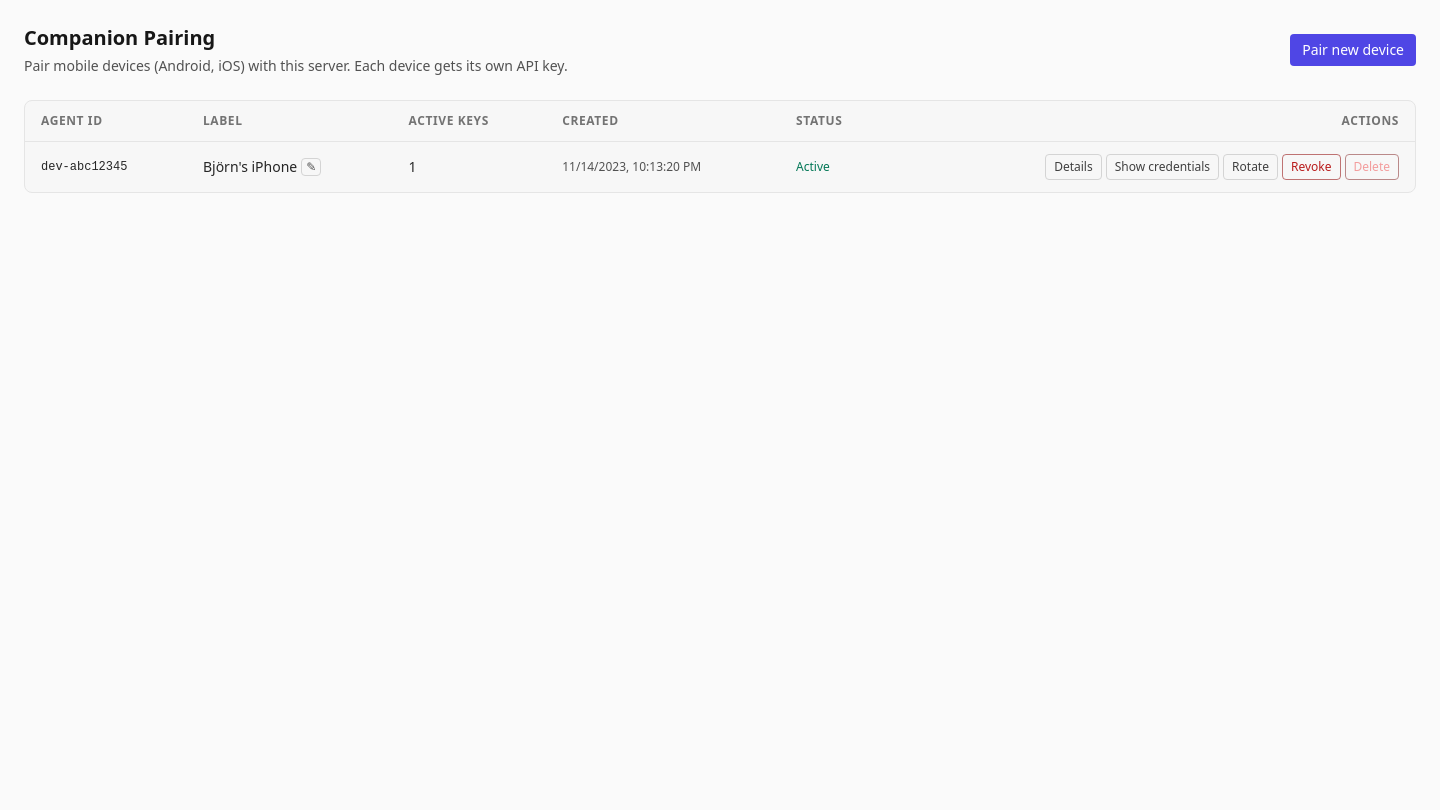
it: CompanionPairingsPage › displays Pairing URL, Copy URL button, and deep link when a key is rotated
Expected: the text "Björn's iPhone" is shown, [203,157,297,176]
Click the button "Rotate".
click(1251, 167)  # box [1223,154,1278,180]
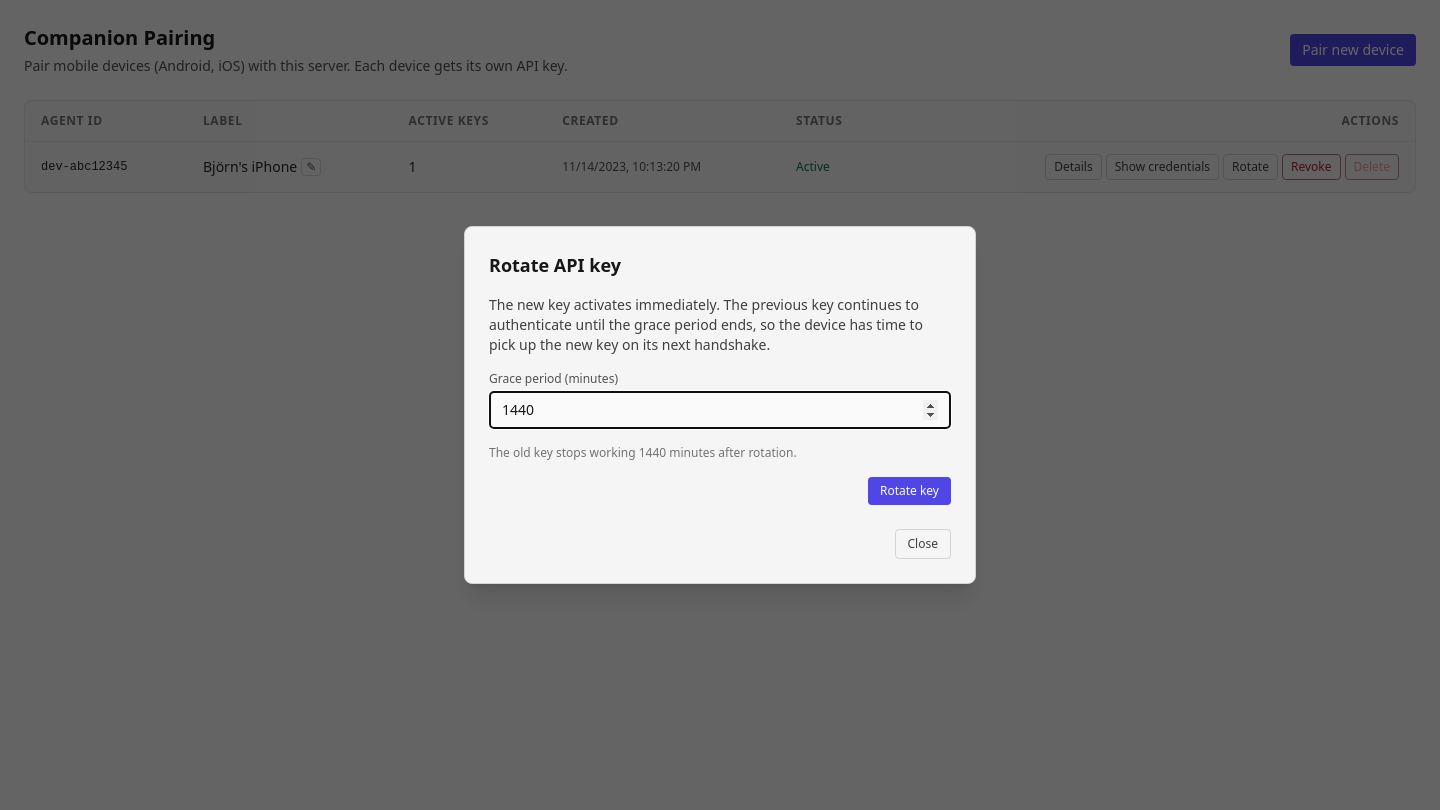
Now the heading "Rotate API key" is shown, box [489,253,621,277]
Click the button "Rotate key".
click(909, 491)  # box [868,477,951,505]
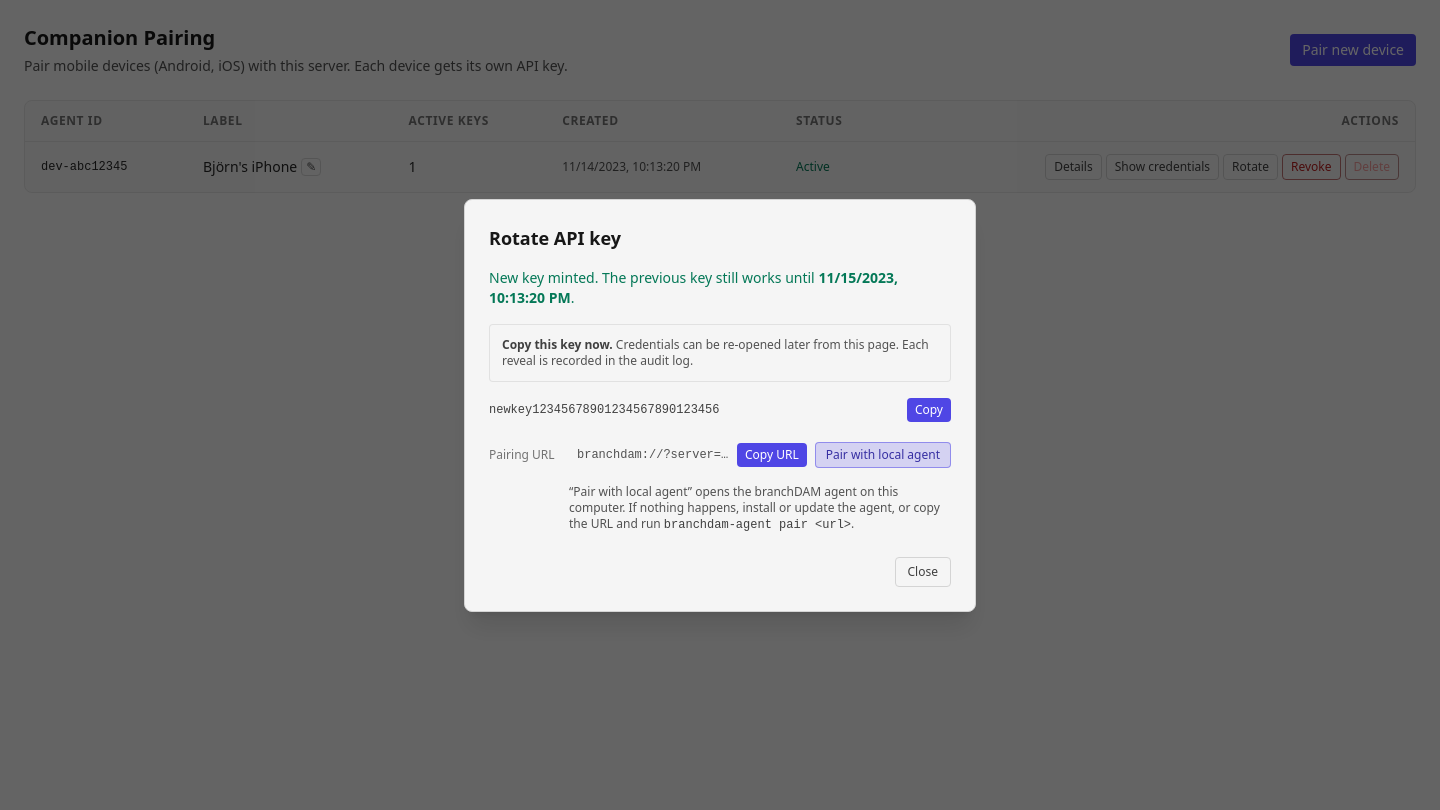
Now the text "Pairing URL" is shown, box [489,446,555,462]
Now the button "Copy URL" is shown, box [737,442,807,466]
Now the text "if nothing happens, install or update the agent" is shown, box [569,482,940,532]
